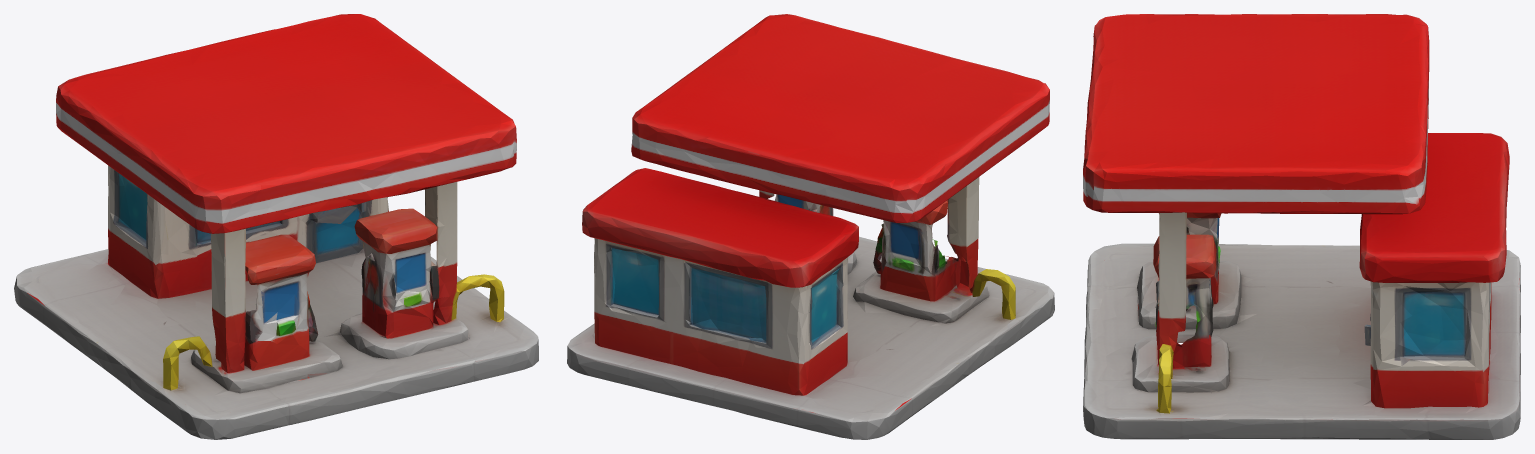
File: gas_station.glb
3 renders of one model, left to right at view 1: azimuth 30°, elevation 25°; view 2: azimuth 150°, elevation 25°; view 3: azimuth 270°, elevation 25°, orthographic. The views are drawn at different scales.
Visible parts, largest first — view 1: geometry_0; view 2: geometry_0; view 3: geometry_0.
Boxes of the visible parts, x1,y1,x2,y2 form: geometry_0: (14, 14, 538, 439); geometry_0: (567, 14, 1054, 439); geometry_0: (1083, 14, 1520, 439).
Size of the model in its own units: 0.9451 by 0.6407 by 0.9885.
1 material, 1 textured.
